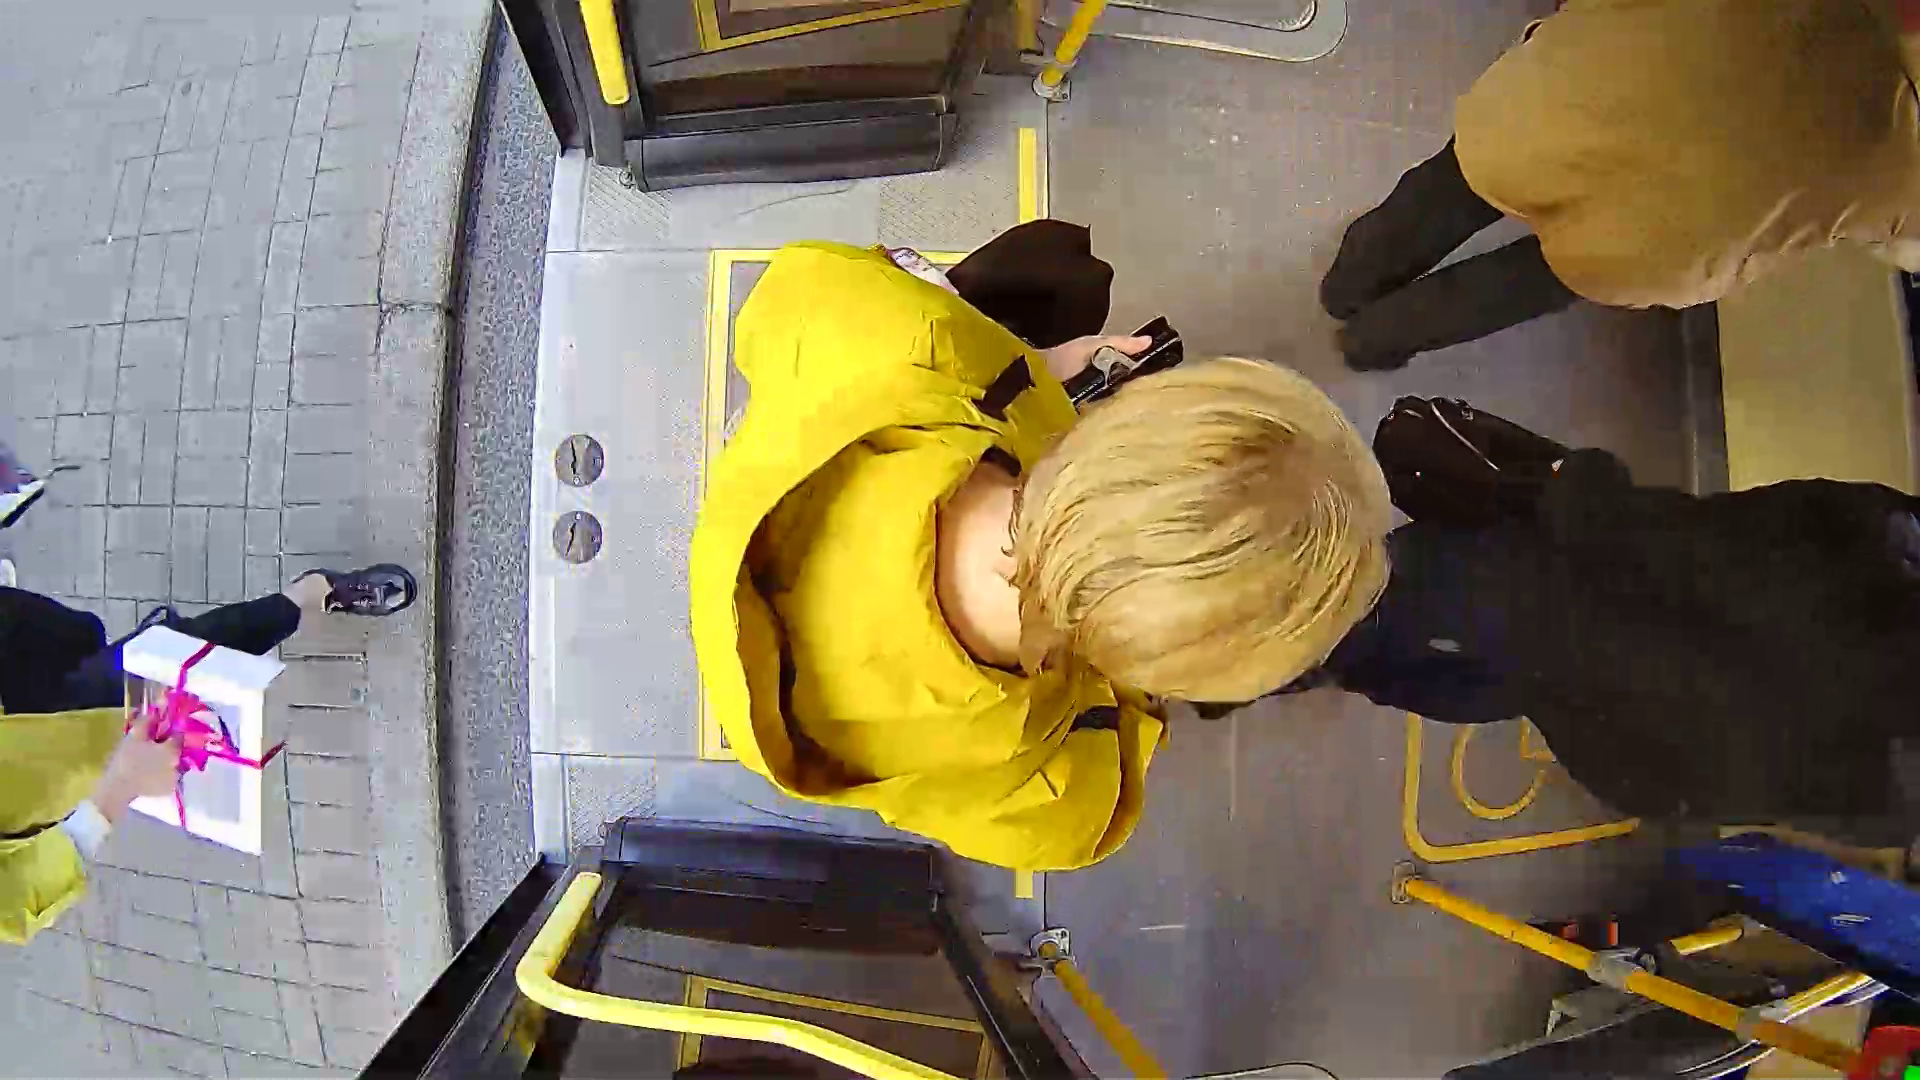person: (589, 237, 1488, 833)
